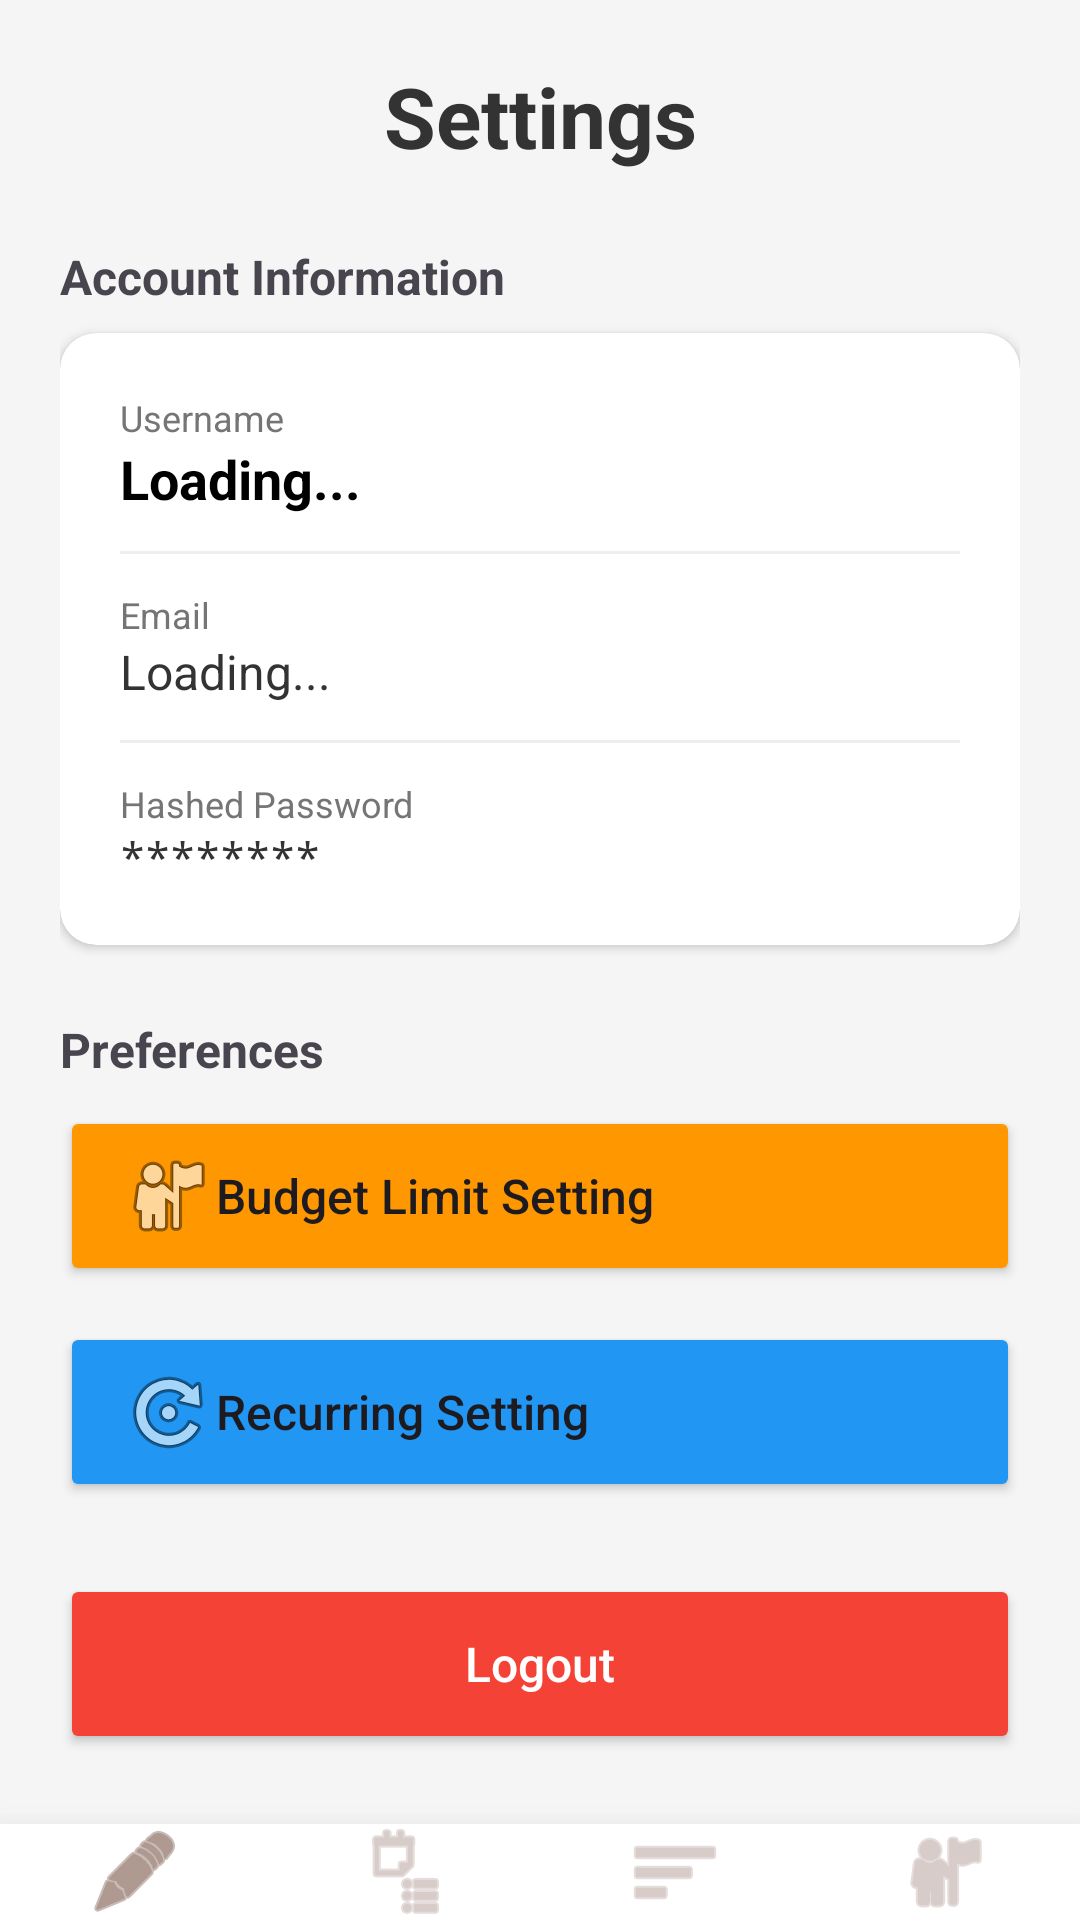

Named icons in this screenshot (1080*1920) and their centers, (x=x, y=y):
Report: (x=675, y=1872)
Transactions: (x=405, y=1871)
